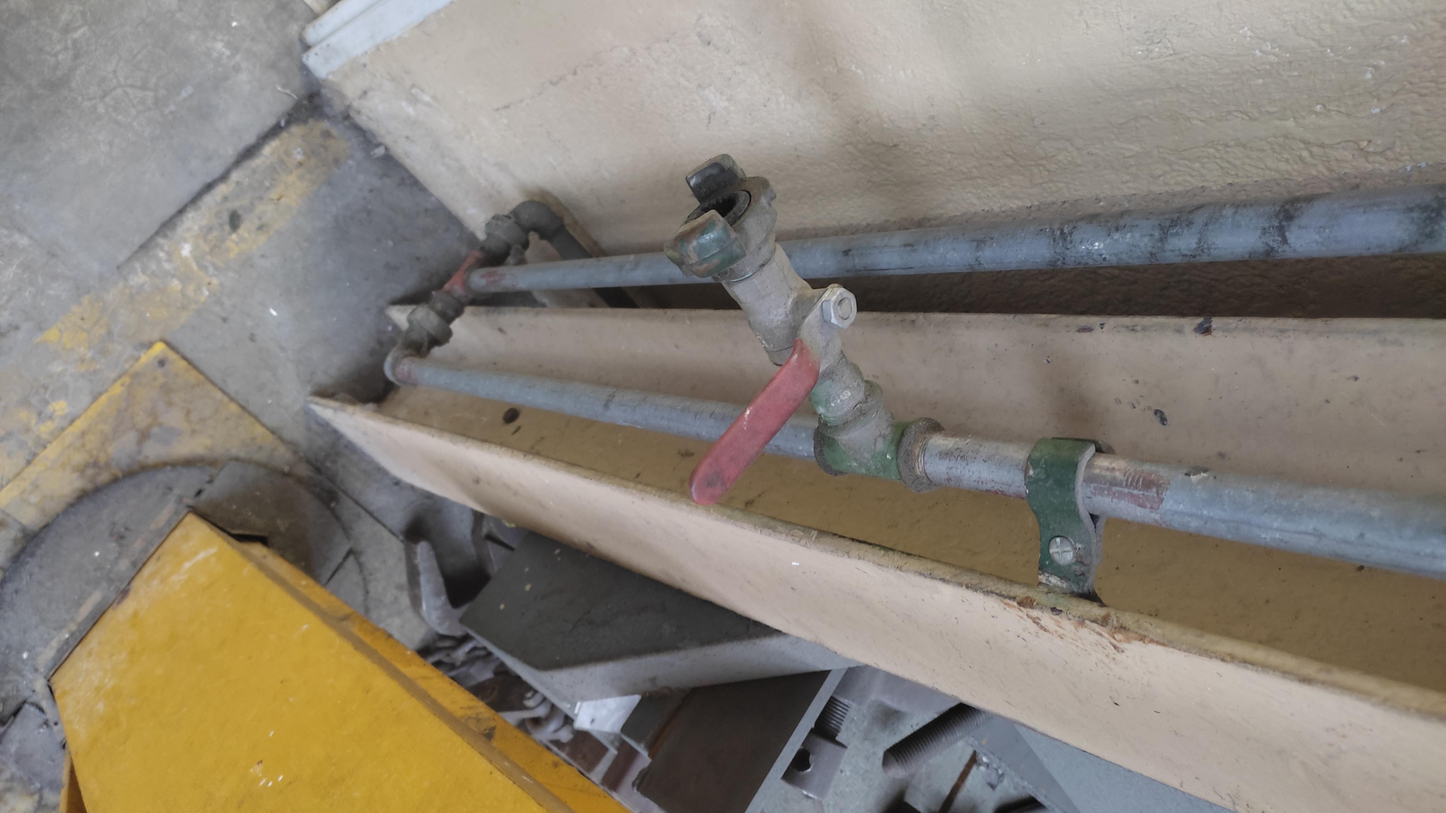closed valve: (685, 248, 876, 514)
